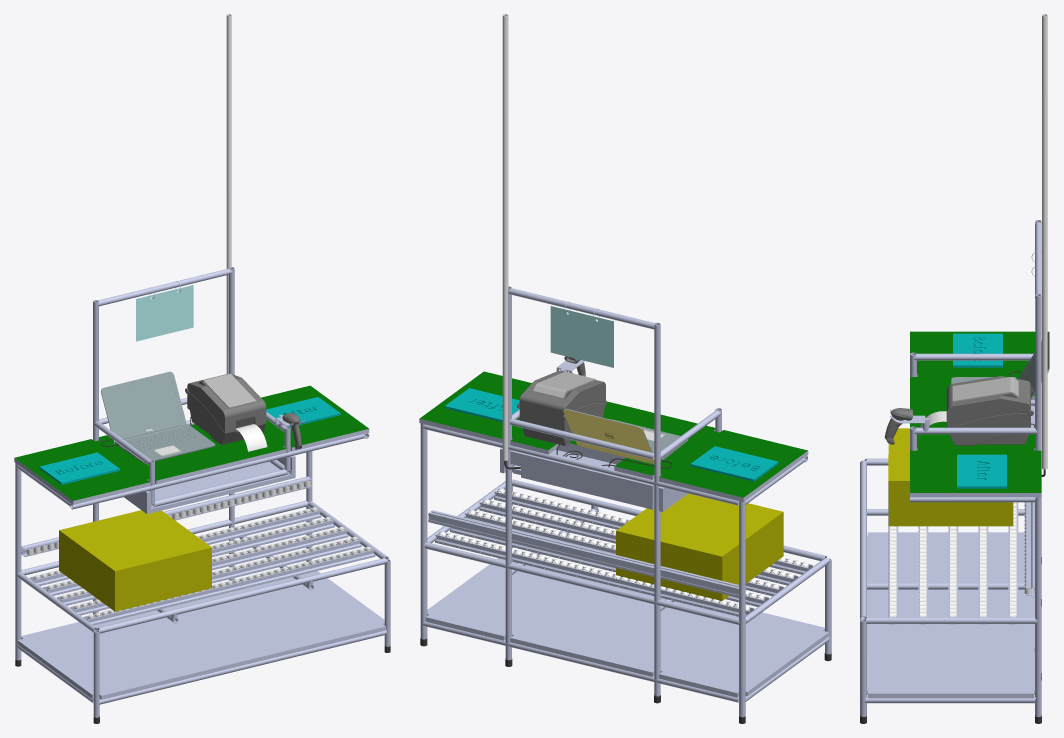
File: Assembly Warehouse Table.glb
3 renders of one model, left to right at view 1: azimuth 30°, elevation 25°; view 2: azimuth 150°, elevation 25°; view 3: azimuth 270°, elevation 25°, orthographic. The views are drawn at different scales.
Visible parts, largest first — view 1: Solid1 (×14), Solid29, Solid28, Solid2, Solid4 (×2), Solid43, Solid26, Solid6 (×2), Solid18, Solid7, Solid3, Solid5 (+3 smaller); view 2: Solid1 (×12), Solid29, Solid28, Solid2, Solid44, Solid6 (×2), Solid4 (×2), Solid3 (×2), Solid5, Solid26, Solid31, Solid21 (+4 smaller); view 3: Solid29, Solid28, Solid1 (×11), Solid2 (×2), Solid6 (×2), Solid3 (×2), Solid4, Solid27, Solid26, Solid12, Solid48, Solid47 (+4 smaller).
Part boxes in pixels (x1,y1,x2,y2): Solid1 (×14): (21, 14, 375, 717); Solid29: (17, 571, 385, 699); Solid28: (14, 385, 369, 504); Solid2: (59, 510, 211, 611); Solid4 (×2): (15, 373, 266, 660); Solid43: (124, 461, 295, 513); Solid26: (97, 558, 388, 633); Solid6 (×2): (187, 267, 265, 580); Solid18: (70, 434, 364, 509); Solid7: (98, 630, 386, 704); Solid3: (200, 373, 256, 408); Solid5: (93, 300, 98, 614); Solid1 (×12): (428, 14, 812, 616); Solid29: (425, 558, 828, 697); Solid28: (419, 371, 808, 501); Solid2: (616, 493, 783, 600); Solid44: (510, 450, 654, 509); Solid6 (×2): (505, 286, 605, 660); Solid4 (×2): (519, 371, 745, 717); Solid3 (×2): (420, 371, 595, 639); Solid5: (654, 322, 660, 696); Solid26: (512, 479, 826, 560); Solid31: (507, 563, 655, 604); Solid21: (508, 288, 655, 329); Solid29: (867, 532, 1034, 698); Solid28: (910, 331, 1041, 497); Solid1 (×11): (888, 14, 1049, 624); Solid2 (×2): (860, 454, 1013, 716); Solid6 (×2): (949, 293, 1041, 450); Solid3 (×2): (952, 377, 1041, 716); Solid4: (946, 376, 1030, 427); Solid27: (866, 617, 1037, 623); Solid26: (860, 460, 866, 620); Solid12: (863, 696, 1035, 703); Solid48: (914, 427, 1037, 434); Solid47: (914, 353, 1033, 360).
Bounding box in the file's own units: 1.53 × 2.94 × 0.76.
